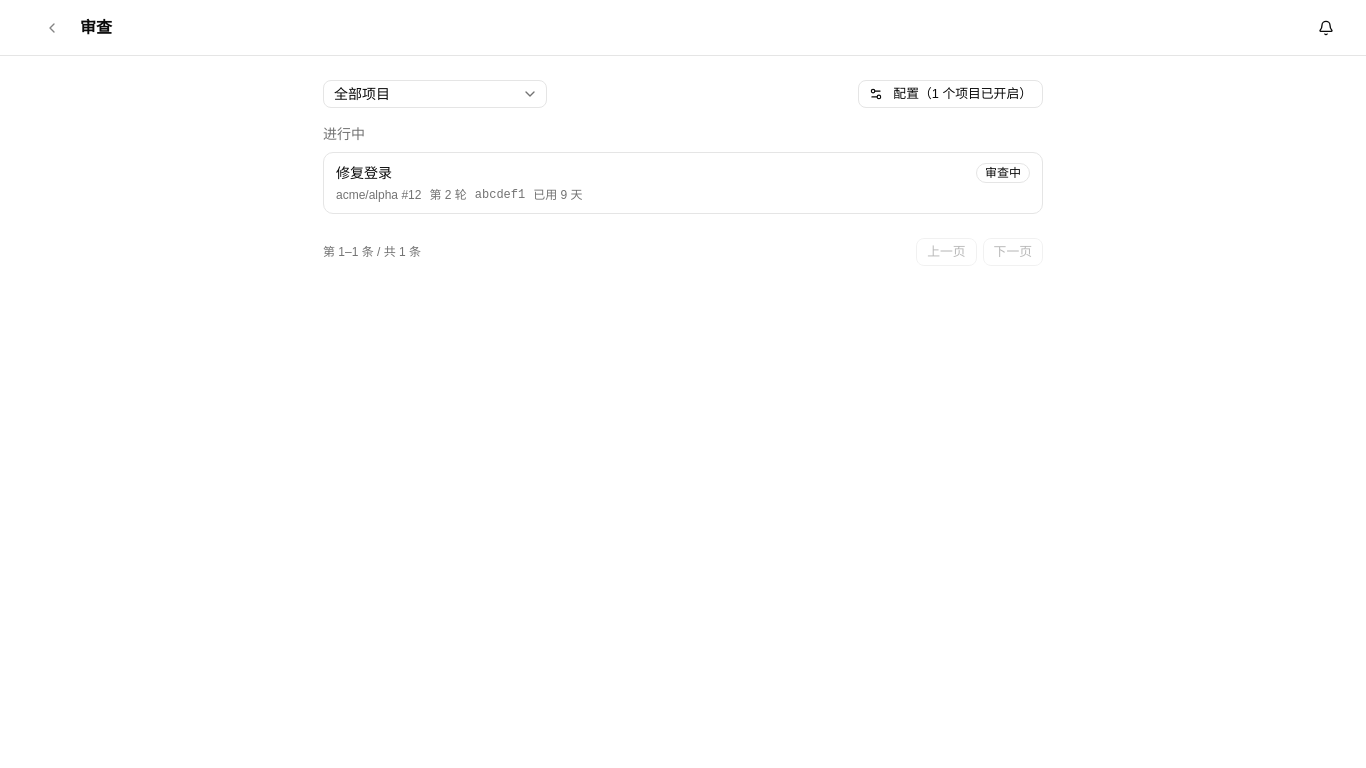
ReviewsPage PR 动态 › 点行打开抽屉并渲染详情；进行中项详情 live 轮询
Step 1. Click the button "修复登录 审查中 acme/alpha #12 第 2 轮 abcdef1 已用 9 天" → (364, 173), box 323,152 -> 1043,214
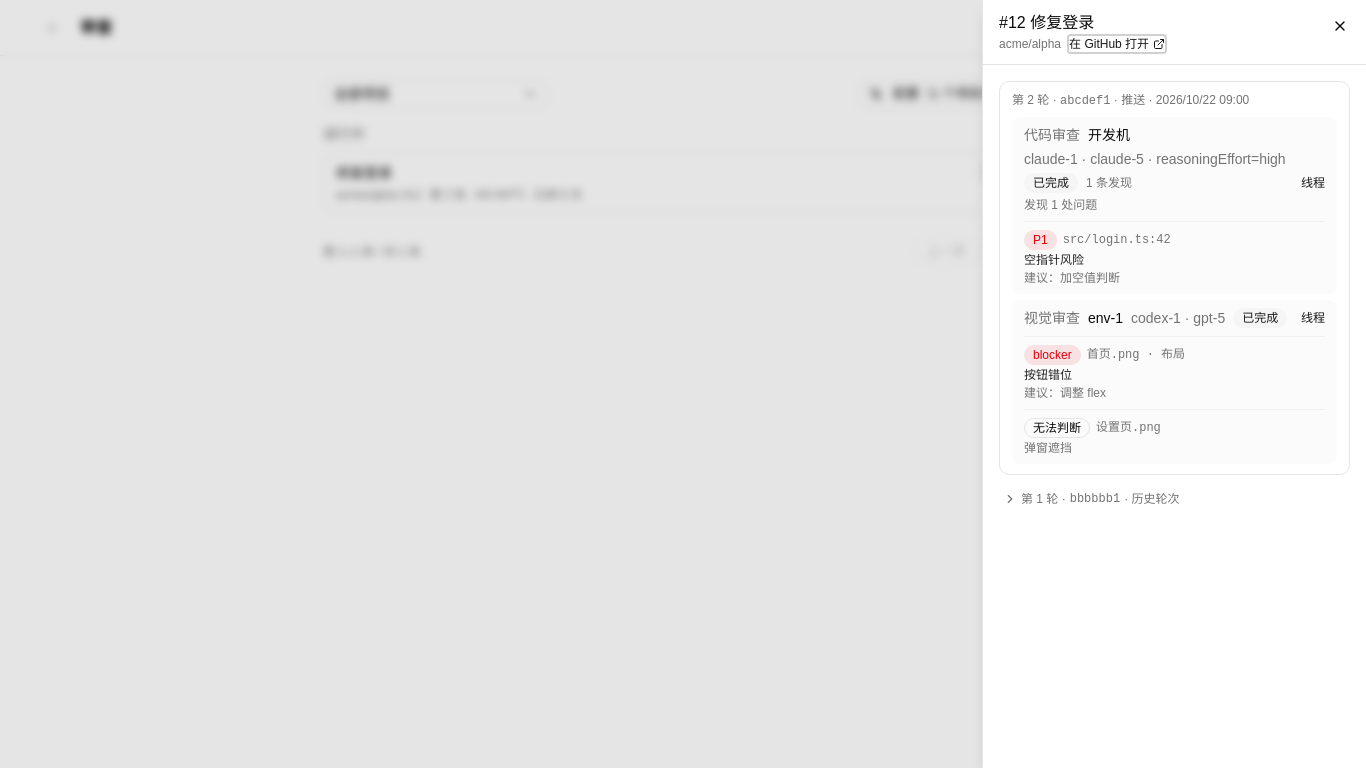
Check: the text "第 2 轮 · abcdef1 · 推送 · 2026/10/22 09:00" is shown, box 1012,93 -> 1249,108
Check: the text "claude-1 · claude-5 · reasoningEffort=high" is shown, box 1024,149 -> 1286,169
Check: the icon "P1" is shown, box 1024,230 -> 1057,250
Step 2. Click the button "第 1 轮 · bbbbbb1 · 历史轮次" → (1174, 499), box 999,487 -> 1350,511
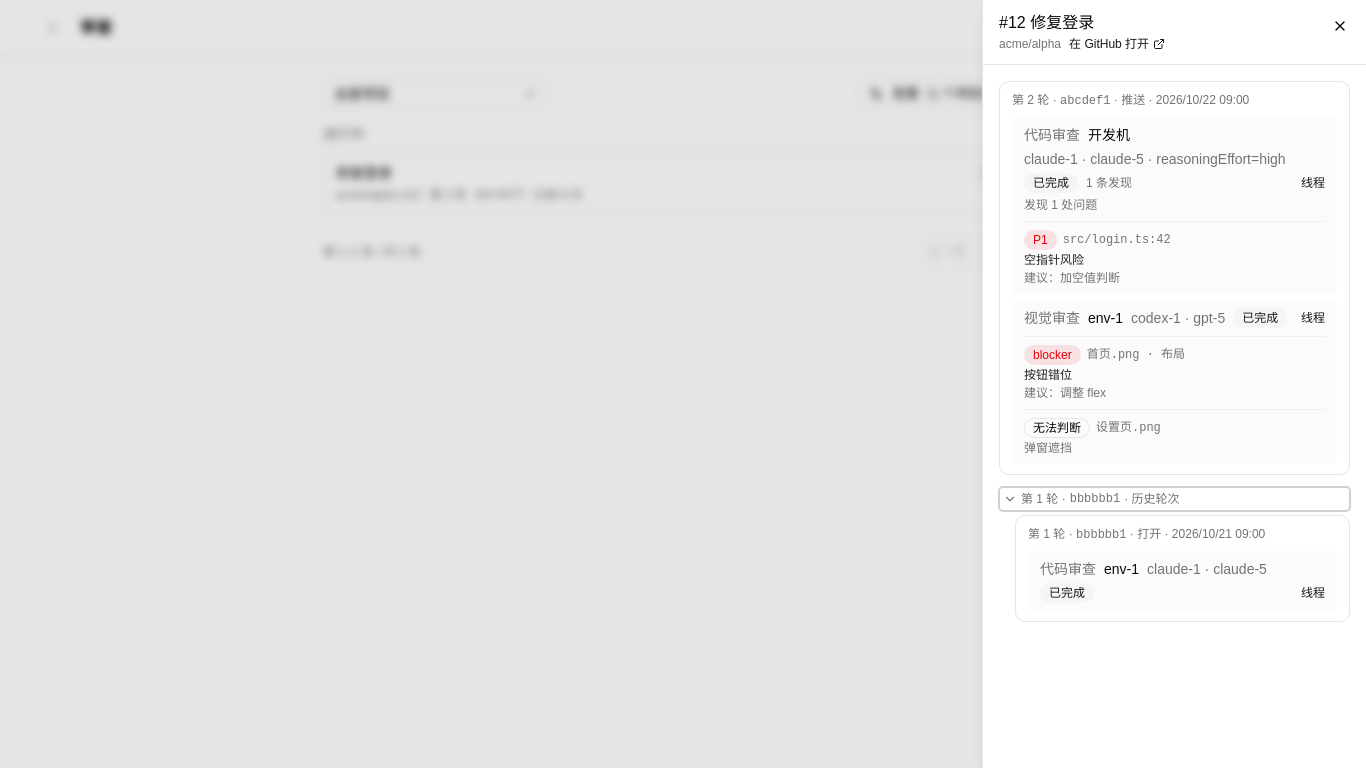
Check: the text "claude-1 · claude-5" is shown, box 1147,559 -> 1267,579
Check: the text "第 1 轮 · bbbbbb1 · 打开 · 2026/10/21 09:00" is shown, box 1028,527 -> 1265,542
